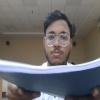notebook: (0, 53, 99, 97)
